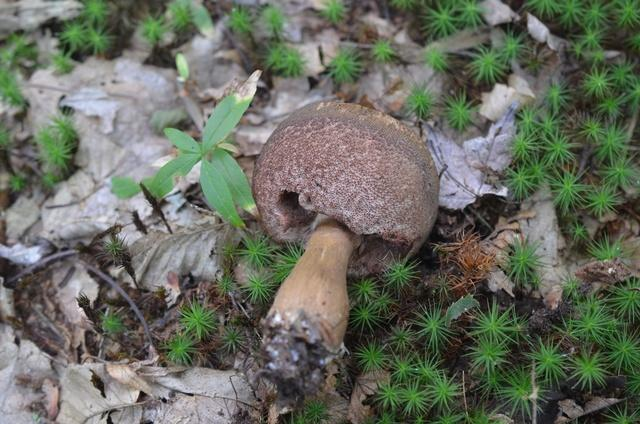poisonous_mushroom: (249, 99, 441, 409)
